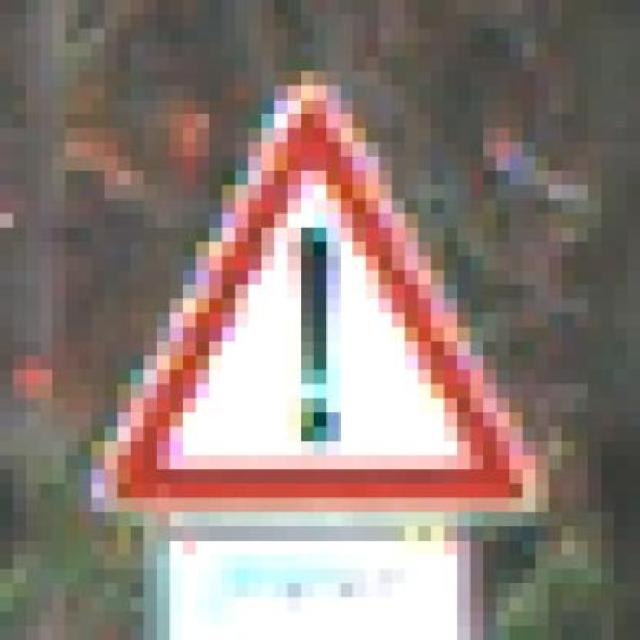Attention Please-: (79, 71, 562, 555)
